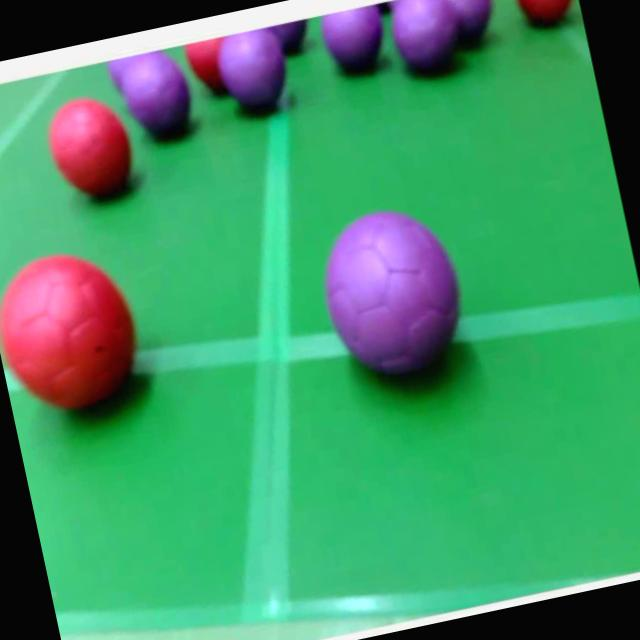purple_ball: (308, 198, 474, 398), (118, 51, 198, 146), (382, 0, 469, 83), (217, 28, 291, 117), (316, 4, 392, 80), (442, 0, 501, 51), (106, 50, 170, 88), (270, 18, 314, 60)
red_ball: (0, 246, 148, 428), (38, 94, 140, 208), (178, 38, 224, 102), (509, 0, 583, 32)
